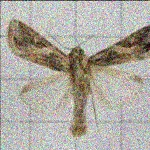Spodoptera litura: (6, 18, 148, 137)
